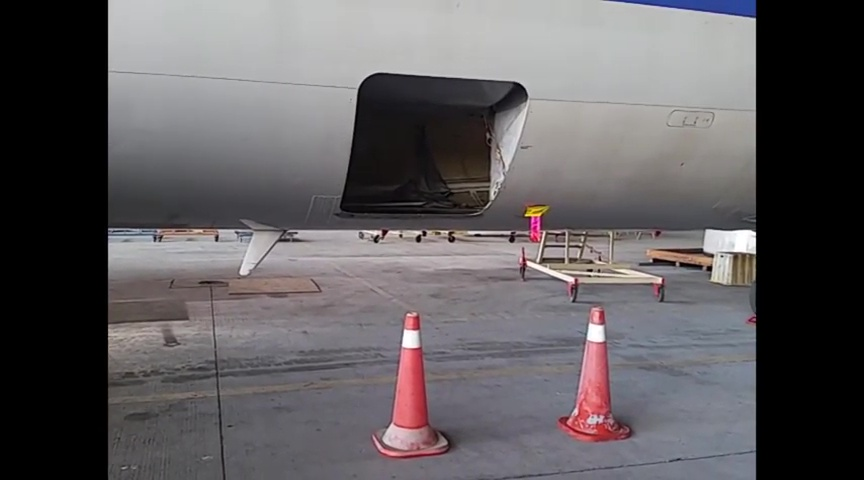safety_cone: (370, 311, 451, 457), (558, 306, 634, 443)
